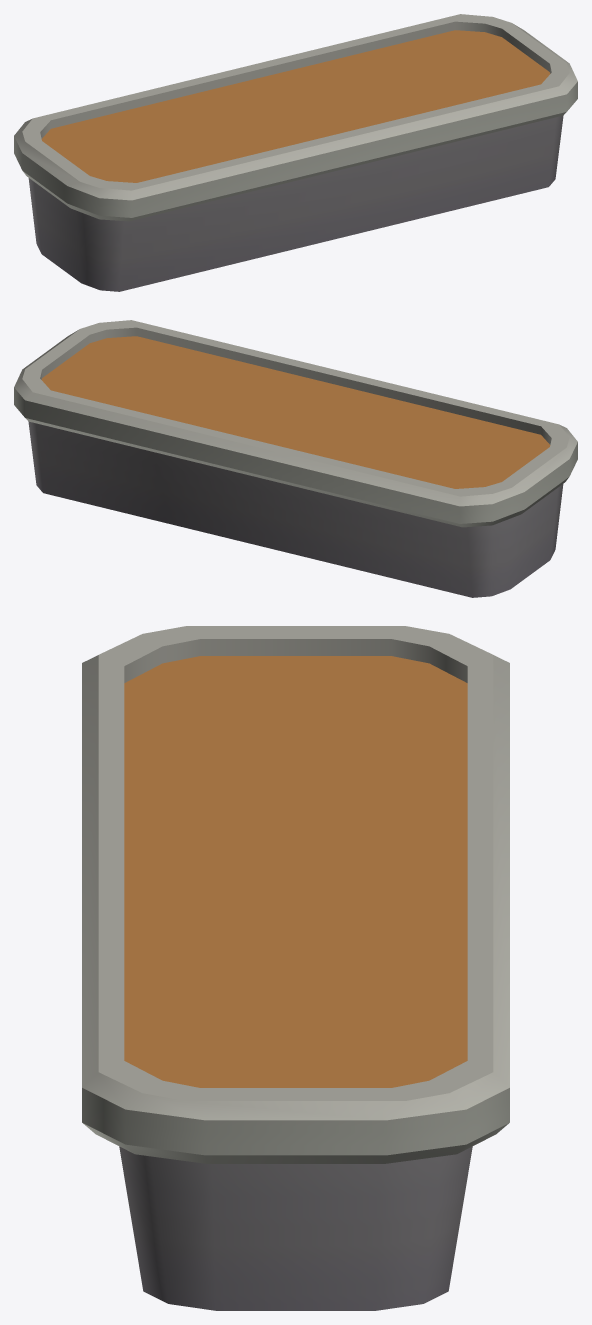
Rendered from BushPot_1_A.fbx.
3 views of the same model, one above another, from view 1: azimuth 30°, elevation 25°; view 2: azimuth 150°, elevation 25°; view 3: azimuth 270°, elevation 25° (orthographic). The views are drawn at different scales.
Parts seen in each view (by area): view 1: BushPot_1_A; view 2: BushPot_1_A; view 3: BushPot_1_A.
Part boxes in pixels (x1,y1,x2,y2): BushPot_1_A: (14, 14, 577, 291); BushPot_1_A: (14, 320, 577, 597); BushPot_1_A: (82, 626, 509, 1310).
Size of the model in its own units: 220 by 45.75 by 81.2.
